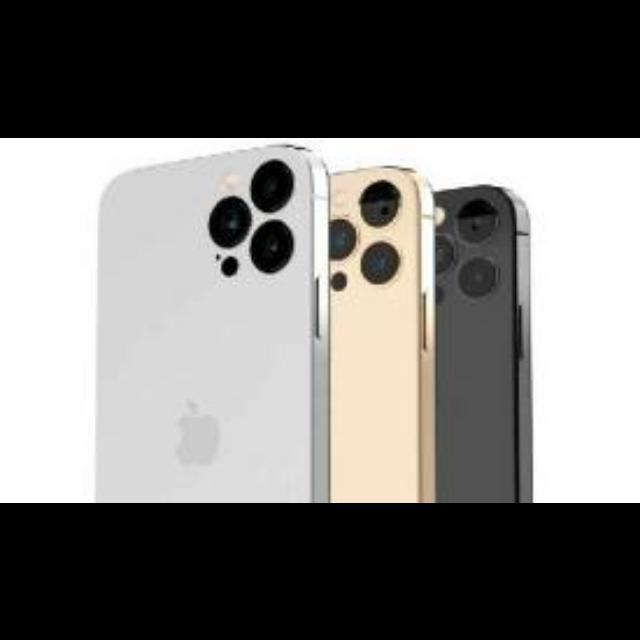mobile: (96, 142, 328, 502), (330, 164, 434, 501), (437, 178, 530, 501)
